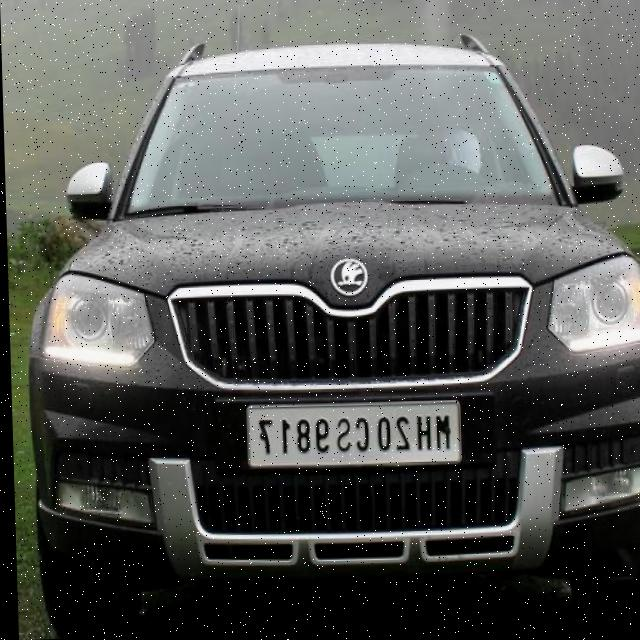plate: (244, 407, 458, 465)
